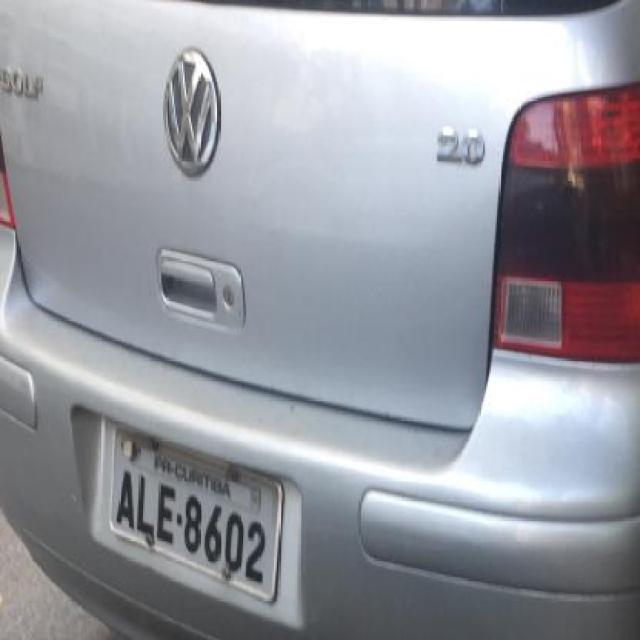old_plate: (98, 423, 292, 611)
